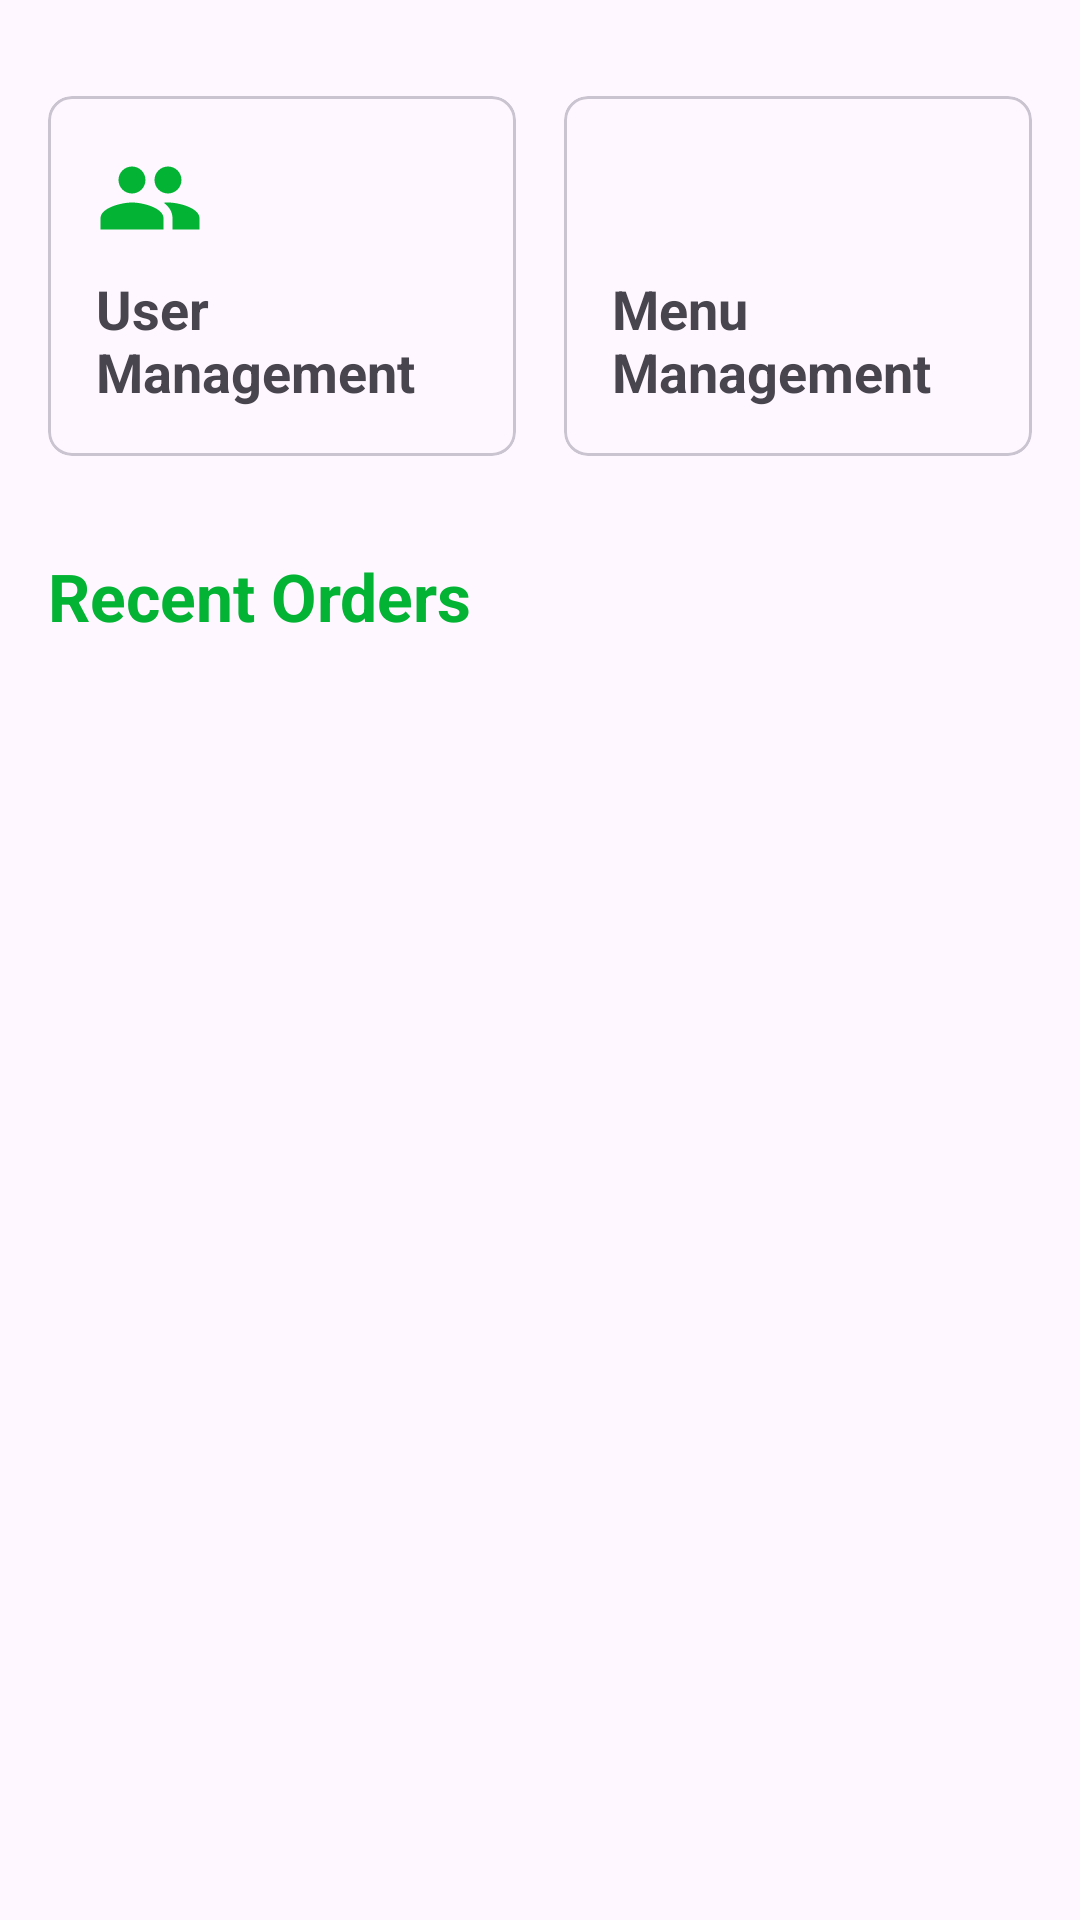

Locate icon controls on the screen. Image size 1080 × 1920, boxes as (x1, y1, x2, y2).
manage accounts: (100, 166, 200, 230)
